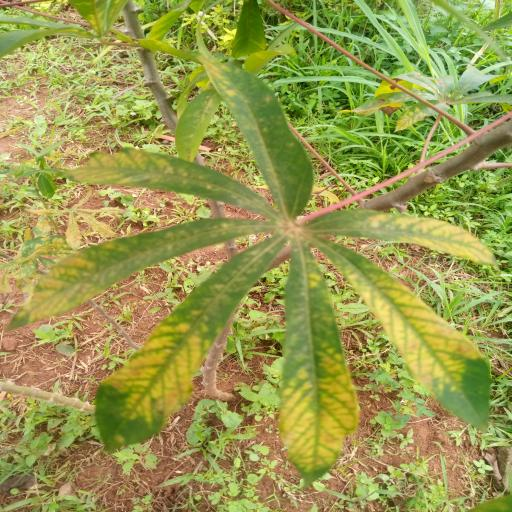Cassava_Mosaic: (12, 39, 512, 477)
